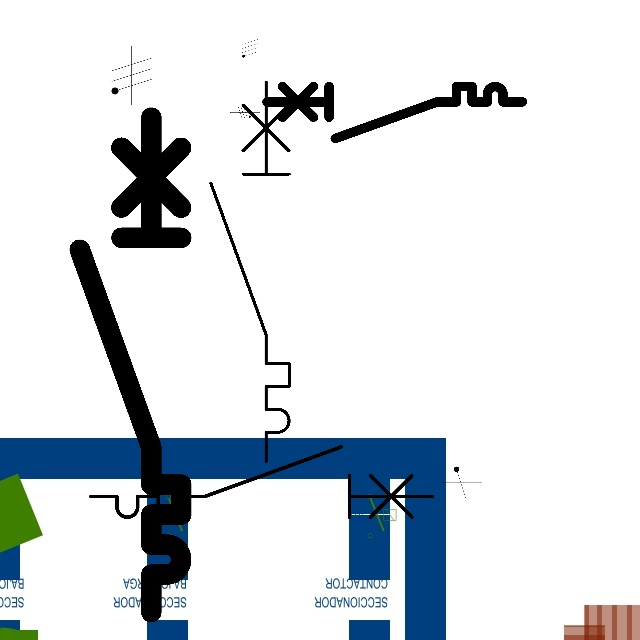interruptor_termomagnetico: (67, 104, 194, 624), (201, 72, 299, 471), (82, 438, 441, 526), (260, 80, 528, 145)
